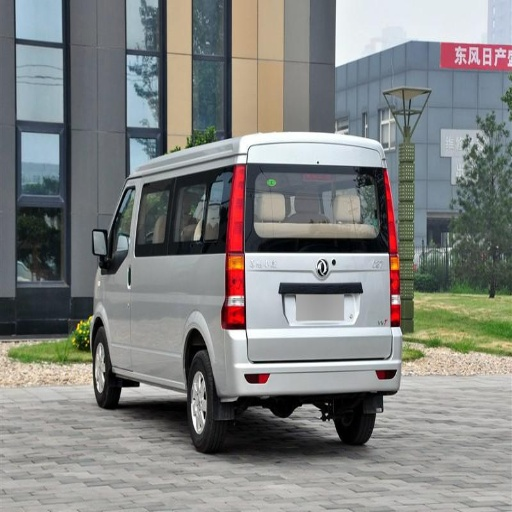back_bumper: (258, 351, 400, 391)
back_glass: (294, 167, 377, 222)
trunk: (153, 196, 393, 381)
